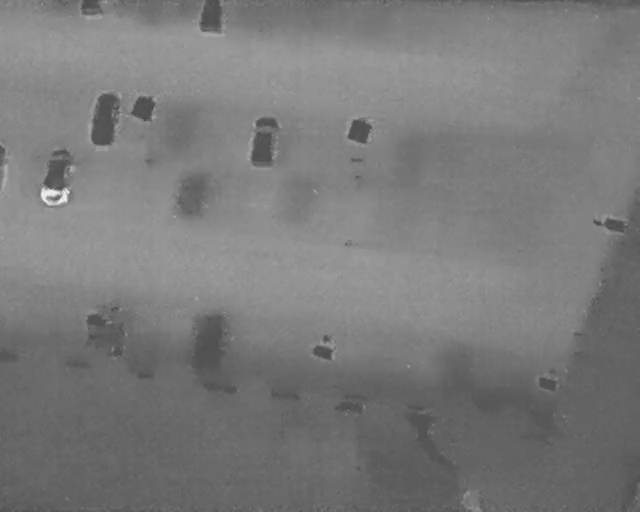Car: (38, 145, 78, 207), (245, 112, 283, 169), (89, 90, 121, 147), (197, 0, 226, 34), (0, 145, 9, 194), (81, 0, 103, 15)
